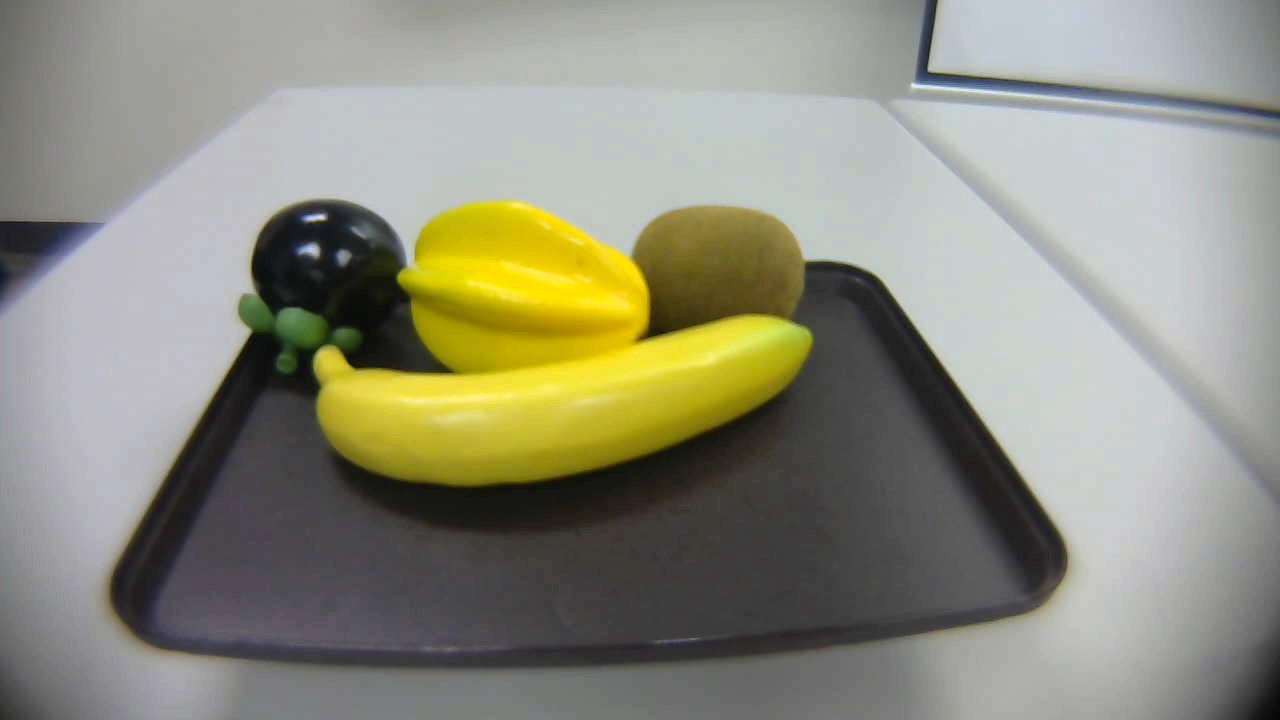banana: (290, 304, 827, 489)
kiwi fruit: (612, 199, 822, 351)
mangosteen: (227, 196, 415, 393)
star fruit: (392, 198, 660, 379)
